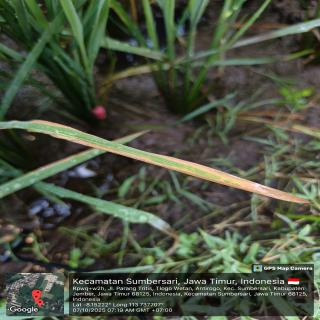Hawar-Daun: (2, 127, 312, 204)
